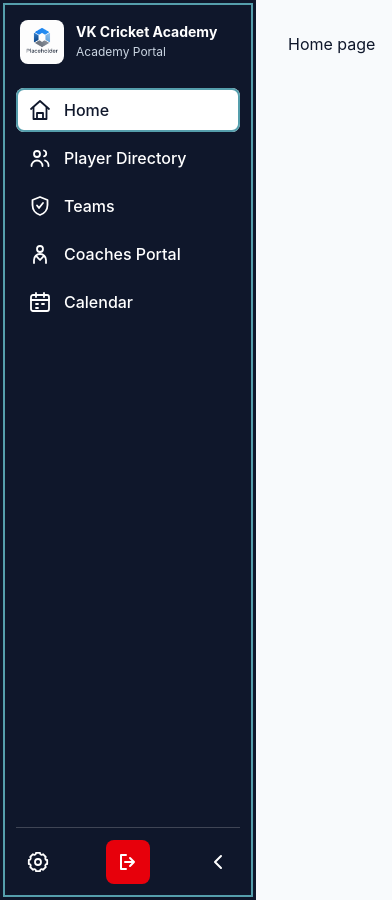
sidebar › identifies the active destination and preserves collapsed state across navigation
Click the button named "Collapse sidebar" at (218, 862), box [196, 840, 240, 884]
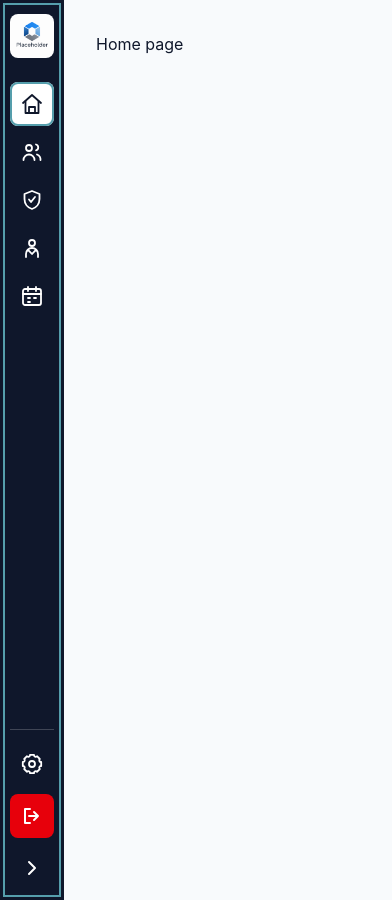
Click the link named "Teams" at (32, 200), box [20, 188, 44, 212]
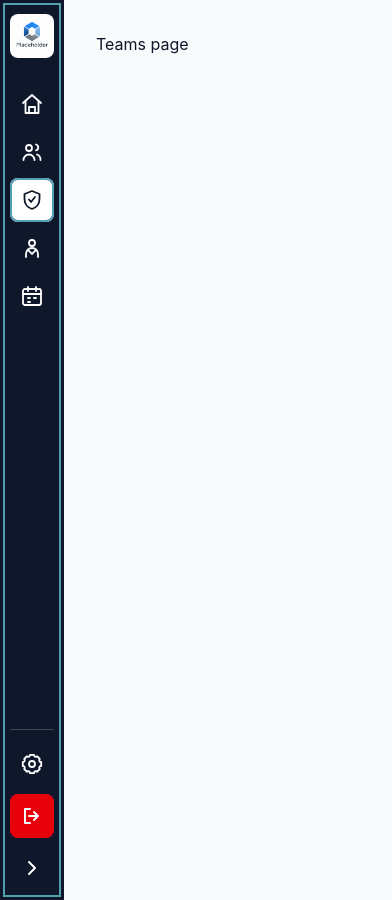
Result: the button named "Expand sidebar" is shown at [10, 846, 54, 890]
Result: the heading "Teams page" is shown at [96, 34, 189, 54]
